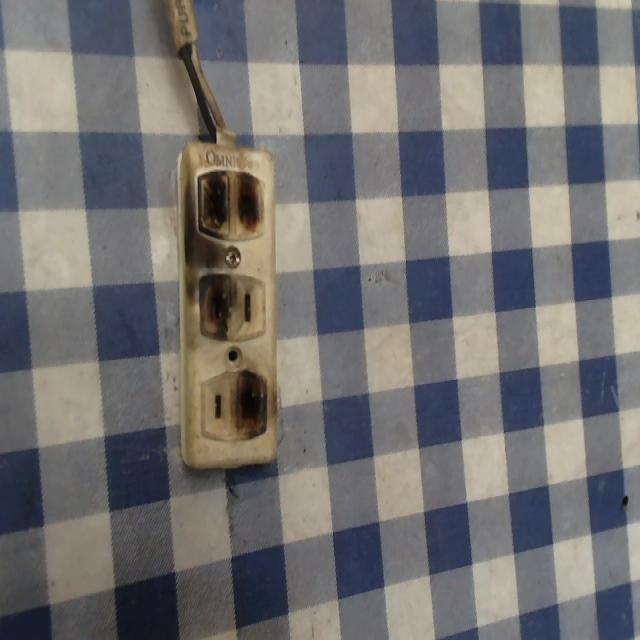-: (194, 166, 265, 246), (198, 262, 236, 342), (234, 365, 266, 440)
